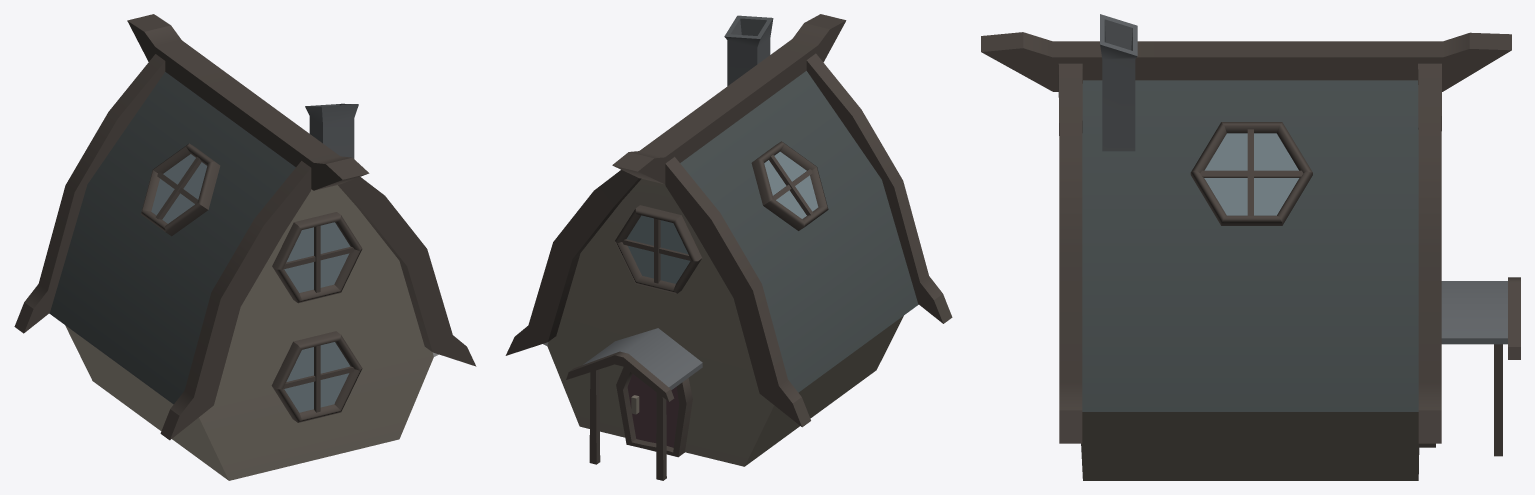
File: M_House_Hut_02.fbx
3 renders of one model, left to right at view 1: azimuth 30°, elevation 25°; view 2: azimuth 150°, elevation 25°; view 3: azimuth 270°, elevation 25°, orthographic. The views are drawn at different scales.
Parts seen in each view (by area): view 1: Funky_House; view 2: Funky_House; view 3: Funky_House.
Boxes of the visible parts, x1,y1,x2,y2 form: Funky_House: [14, 14, 476, 480]; Funky_House: [505, 14, 952, 480]; Funky_House: [981, 14, 1520, 480].
Bounding box in the file's own units: 7.14 × 7.71 × 8.84.
